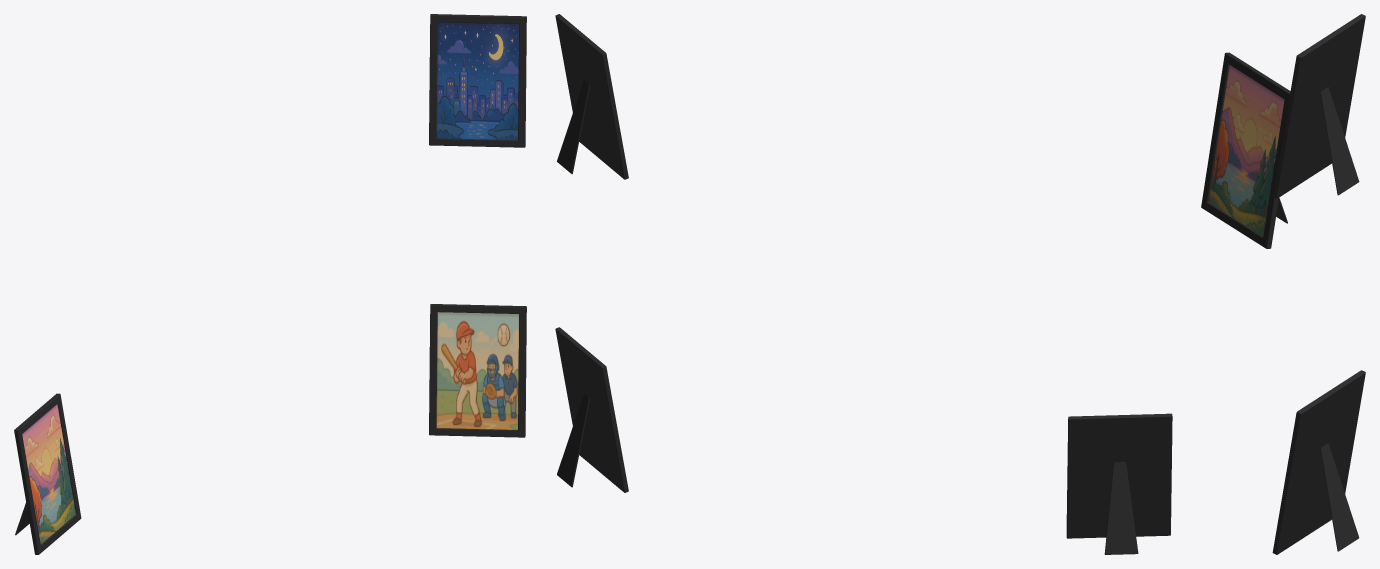
The model's file is frames.fbx.
3 renders of one model, left to right at view 1: azimuth 30°, elevation 25°; view 2: azimuth 150°, elevation 25°; view 3: azimuth 270°, elevation 25°, orthographic. The views are drawn at different scales.
Parts seen in each view (by area): view 1: Picture Frame.001, Picture Frame.002, Picture Frame; view 2: Picture Frame, Picture Frame.001, Picture Frame.002; view 3: Picture Frame, Picture Frame.001, Picture Frame.002.
Part boxes in pixels (<box>): Picture Frame.001: <box>429,14,526,147</box>; Picture Frame.002: <box>429,304,526,437</box>; Picture Frame: <box>14,393,81,554</box>; Picture Frame: <box>1066,413,1172,554</box>; Picture Frame.001: <box>555,14,628,179</box>; Picture Frame.002: <box>555,327,628,492</box>; Picture Frame: <box>1201,52,1290,248</box>; Picture Frame.001: <box>1272,14,1365,198</box>; Picture Frame.002: <box>1272,370,1365,554</box>.
Bounding box in the file's own units: 97.14 × 70.44 × 20.82.
